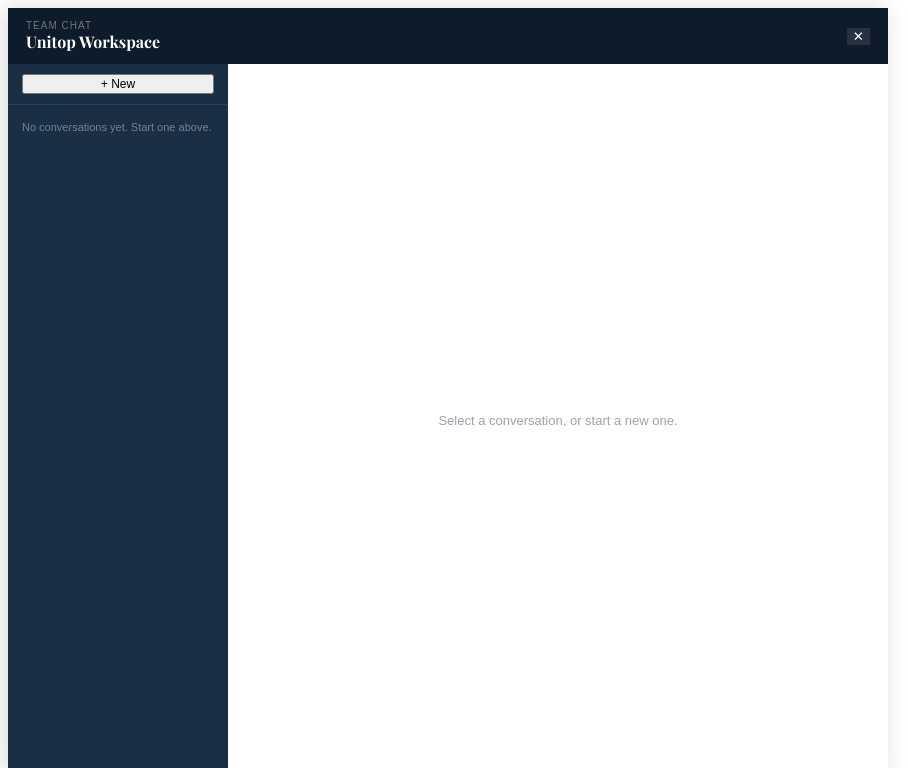
Test: InAppChat UI › starting a new DM excludes yourself from the picker list
Click the button "+ New" at {"x": 118, "y": 84}, box [22, 74, 214, 94]
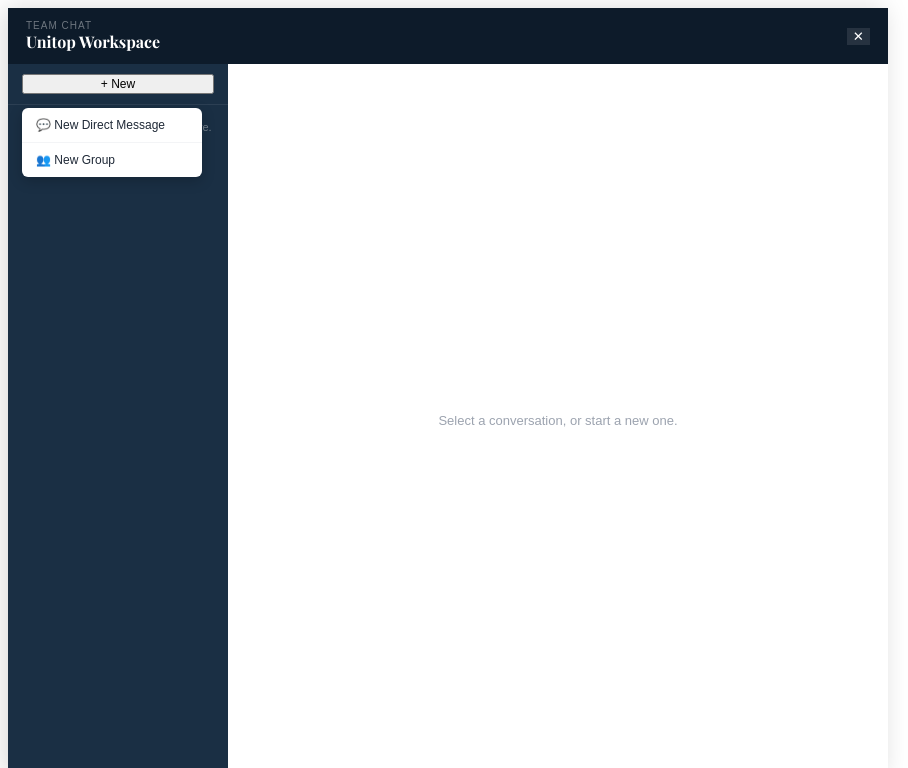
Click the text "💬 New Direct Message" at {"x": 100, "y": 125}, box [36, 118, 165, 132]
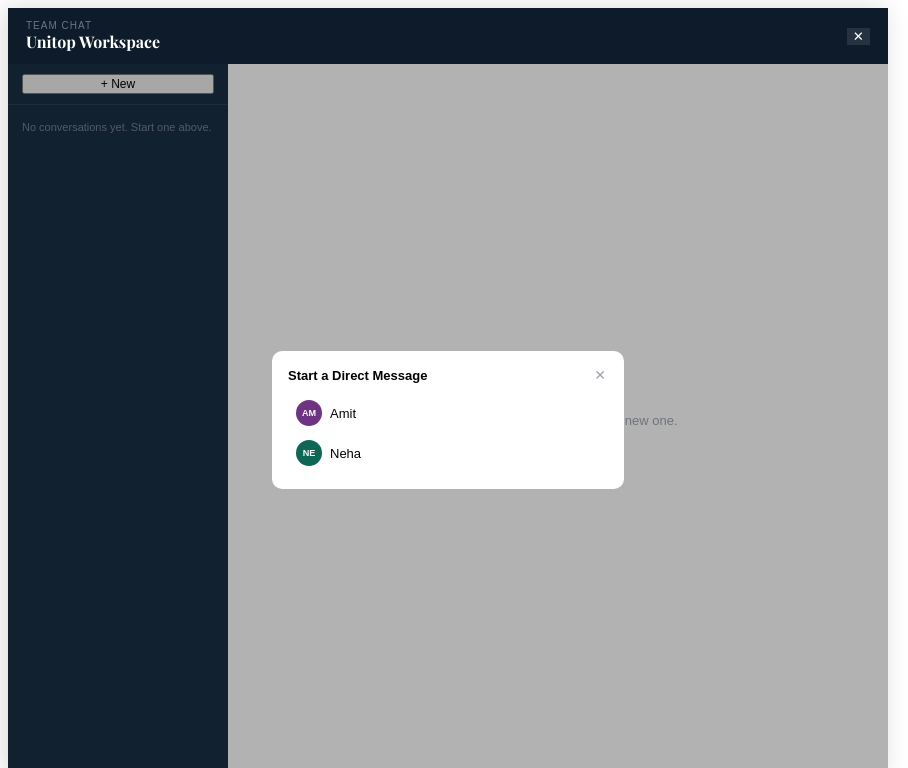
Now the text "Amit" is shown, box [330, 406, 356, 420]
Now the text "Neha" is shown, box [330, 446, 361, 460]
